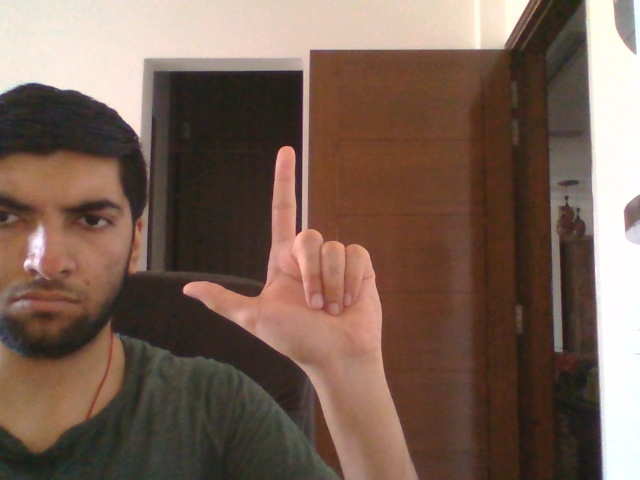LetterL: (181, 144, 383, 369)
